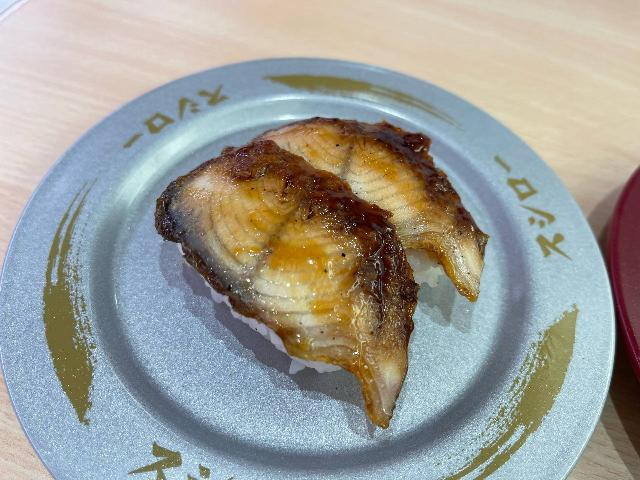janred: (601, 157, 640, 409)
janwhite: (28, 72, 569, 464)
